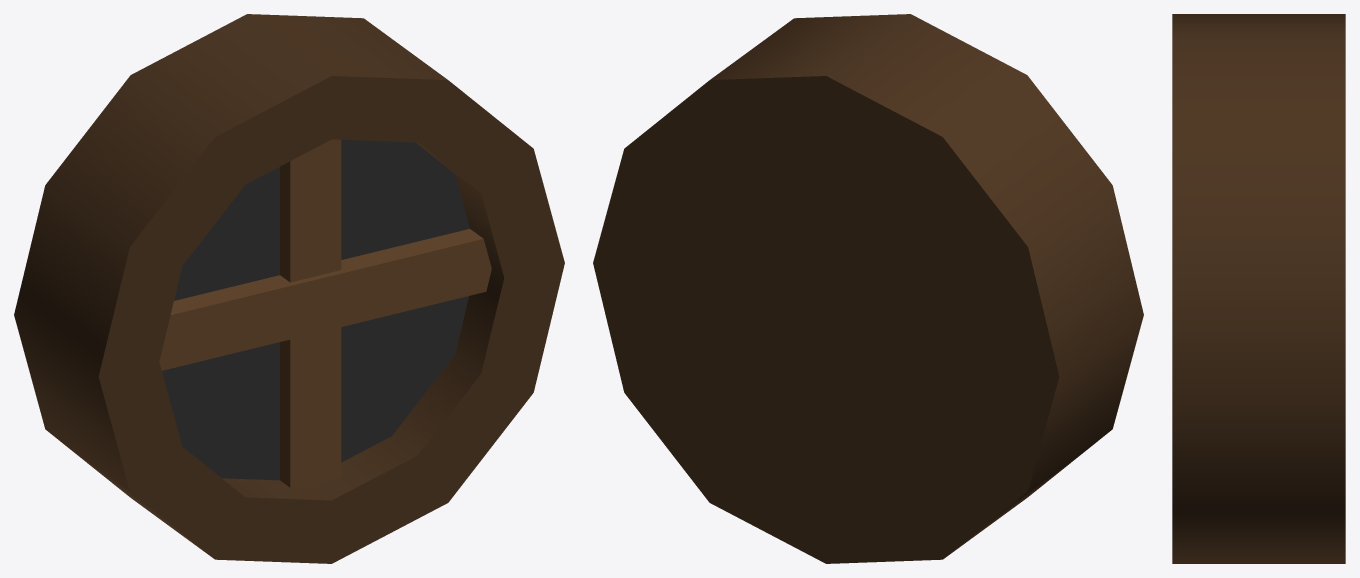
Rendered from Window_1.glb.
3 renders of one model, left to right at view 1: azimuth 30°, elevation 25°; view 2: azimuth 150°, elevation 25°; view 3: azimuth 270°, elevation 25°, orthographic. The views are drawn at different scales.
Parts seen in each view (by area): view 1: Window_1_Cube.277; view 2: Window_1_Cube.277; view 3: Window_1_Cube.277.
Boxes of the visible parts, x1,y1,x2,y2 form: Window_1_Cube.277: [14, 14, 564, 563]; Window_1_Cube.277: [593, 14, 1143, 563]; Window_1_Cube.277: [1172, 14, 1345, 563].
Size of the model in its own units: 0.3797 by 0.3797 by 0.1193.
